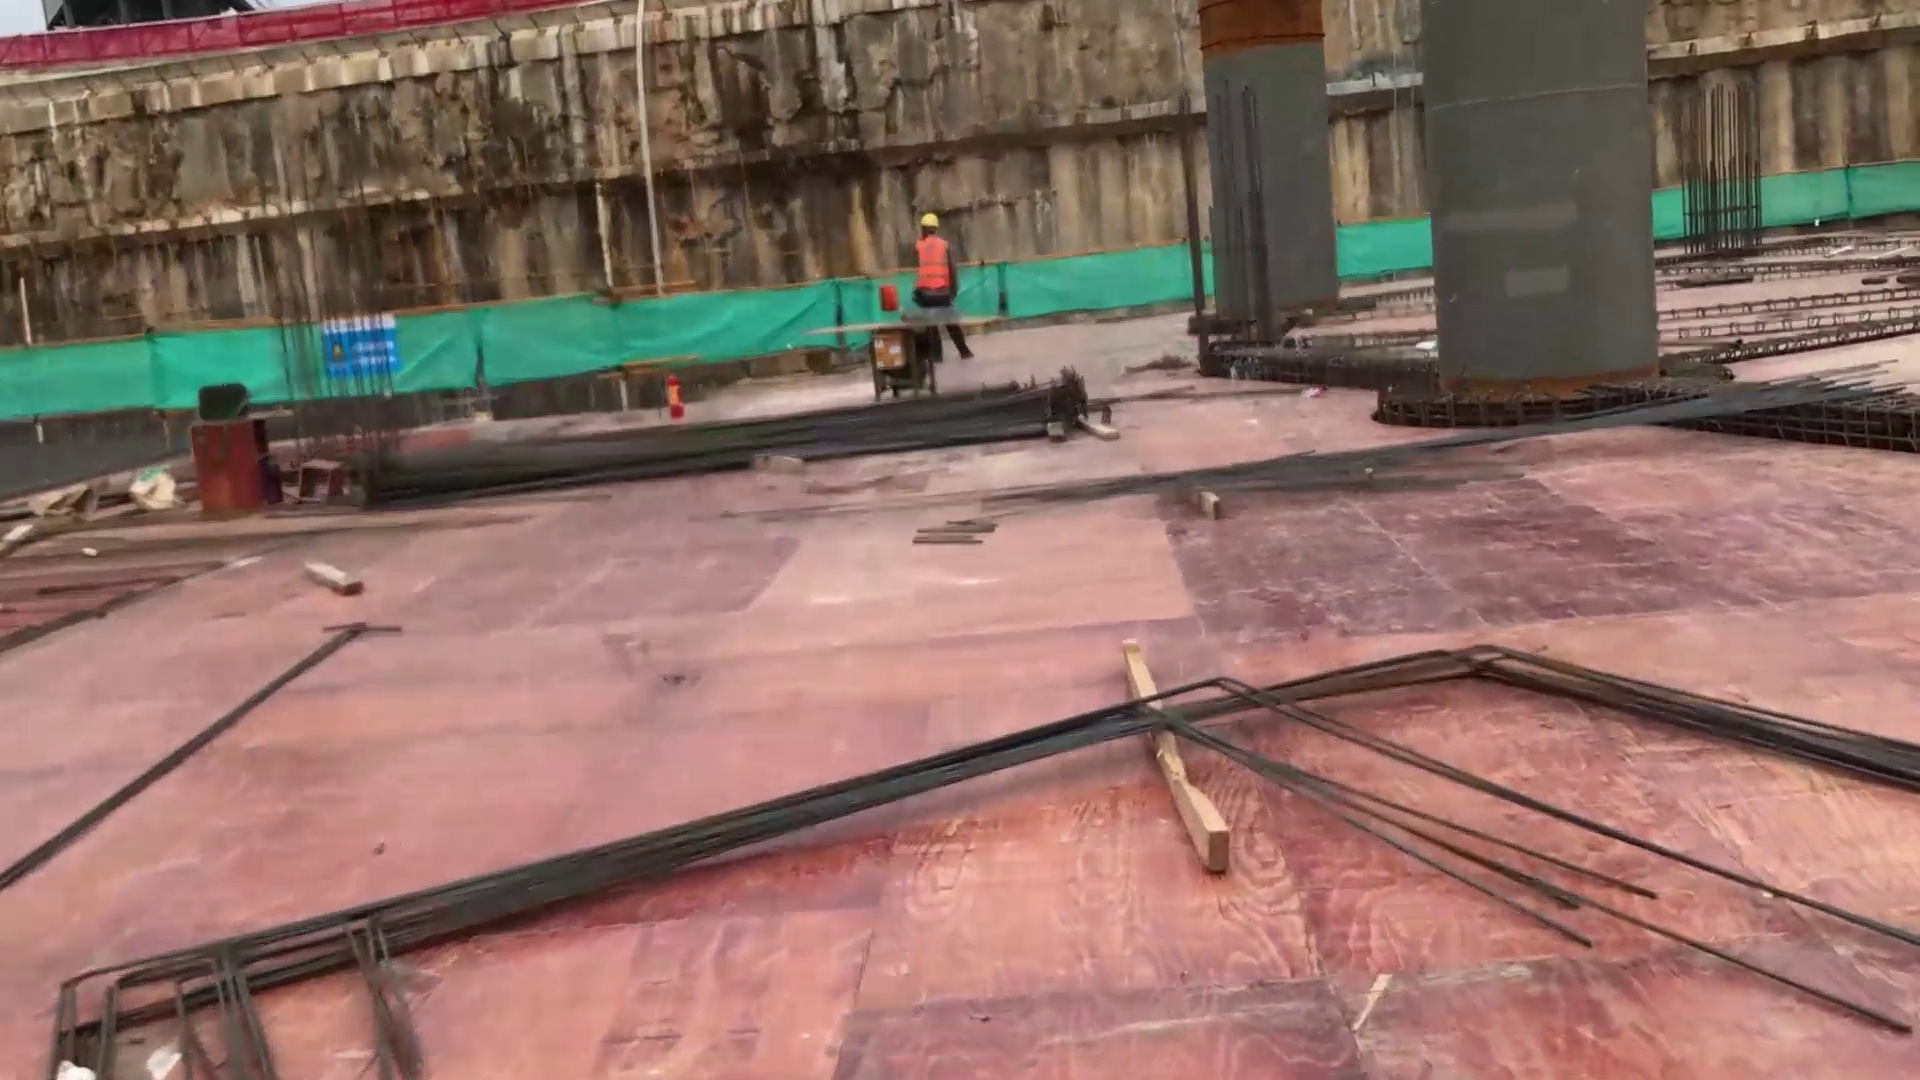cutter: (823, 316, 998, 401)
fence: (1, 1, 593, 71)
helmet: (917, 210, 943, 229)
person: (912, 208, 975, 367)
rebar: (42, 638, 1508, 1080), (353, 369, 1085, 520)
slogan: (316, 304, 401, 379)
vest: (914, 234, 954, 296)
